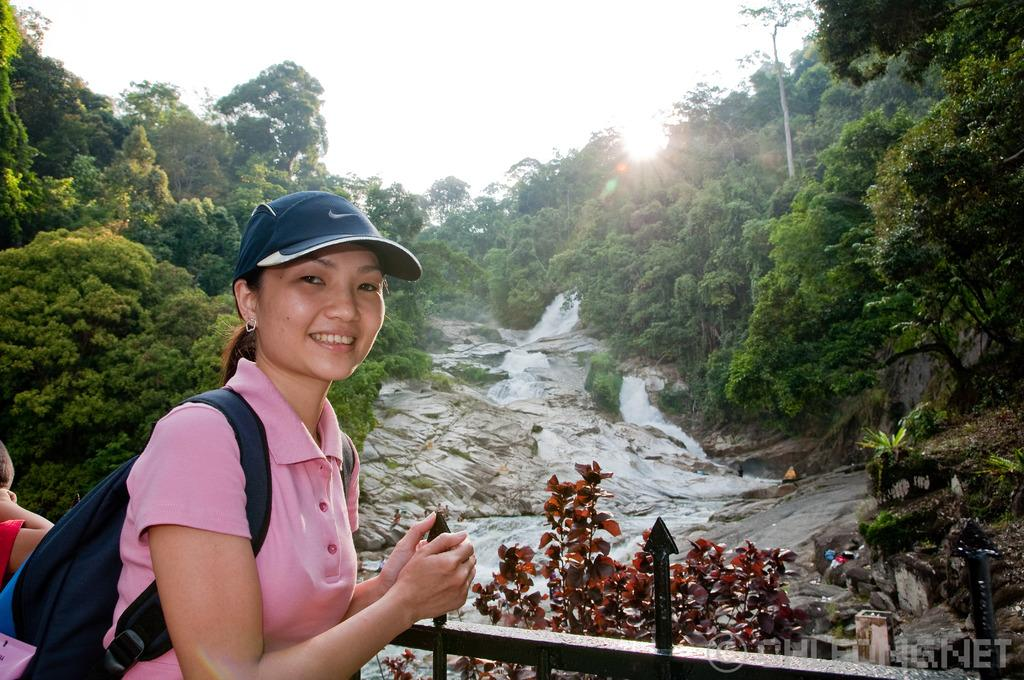Hat: (232, 191, 423, 286)
